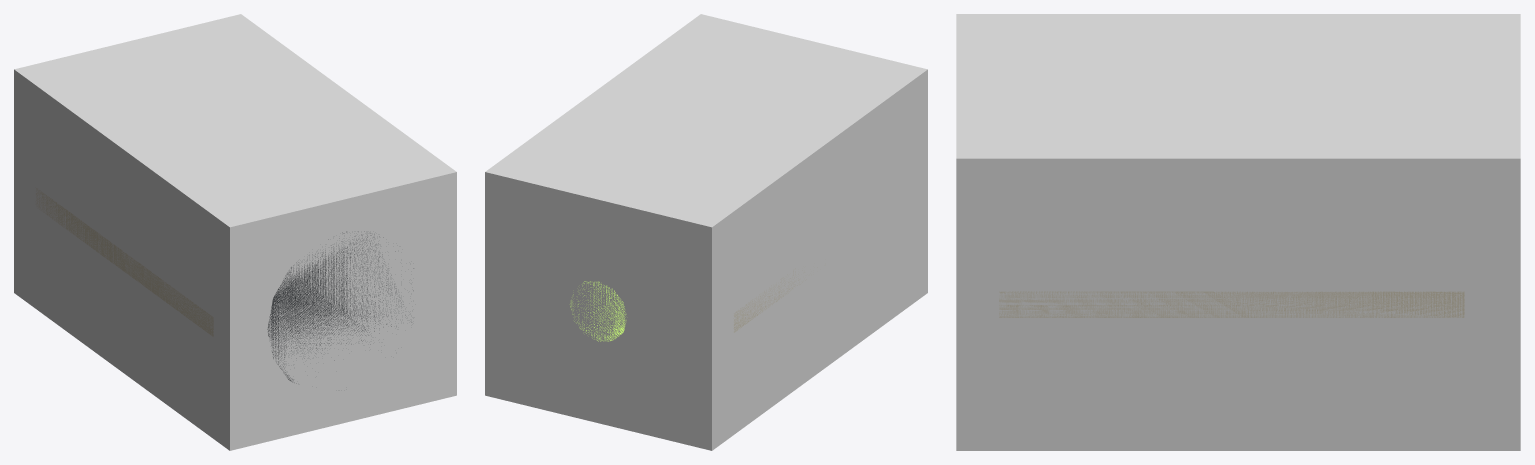
The model's file is rifle_emitter_plasma.glb.
3 renders of one model, left to right at view 1: azimuth 30°, elevation 25°; view 2: azimuth 150°, elevation 25°; view 3: azimuth 270°, elevation 25°, orthographic. The views are drawn at different scales.
Parts seen in each view (by area): view 1: COL_part, emitter; view 2: COL_part, emitter; view 3: COL_part, emitter.
Boxes of the visible parts, x1=… form: COL_part: x1=14, y1=14, x2=456, y2=450; emitter: x1=35, y1=187, x2=413, y2=383; COL_part: x1=485, y1=14, x2=927, y2=450; emitter: x1=570, y1=267, x2=817, y2=341; COL_part: x1=956, y1=14, x2=1520, y2=450; emitter: x1=999, y1=291, x2=1464, y2=317.
Size of the model in its own units: 0.0433 by 0.0408 by 0.0714.
